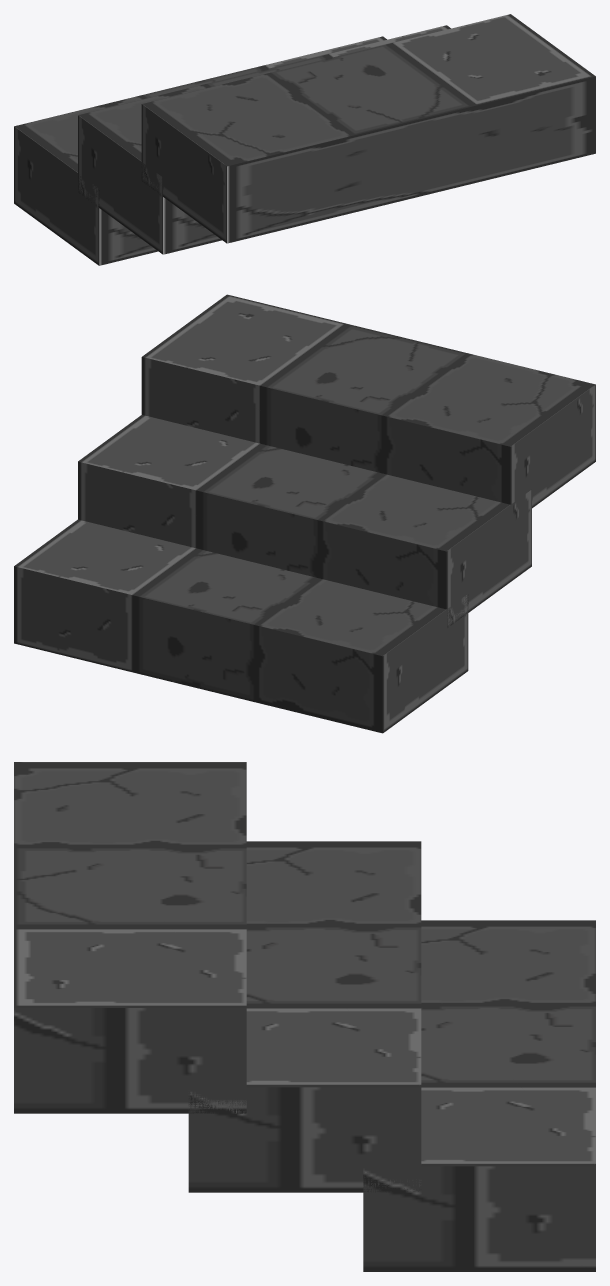
Rendered from stairs.fbx.
3 views of the same model, one above another, from view 1: azimuth 30°, elevation 25°; view 2: azimuth 150°, elevation 25°; view 3: azimuth 270°, elevation 25° (orthographic). The views are drawn at different scales.
Visible parts, largest first — view 1: Cube.001, Cube, Cube.002; view 2: Cube.001, Cube, Cube.002; view 3: Cube.001, Cube, Cube.002.
Boxes of the visible parts, left/top/right/bottom form: Cube.001: left=141, top=14, right=595, bottom=243; Cube: left=14, top=36, right=386, bottom=265; Cube.002: left=78, top=25, right=450, bottom=254; Cube.001: left=141, top=294, right=595, bottom=508; Cube: left=14, top=519, right=468, bottom=733; Cube.002: left=78, top=415, right=531, bottom=627; Cube.001: left=14, top=762, right=246, bottom=1113; Cube: left=363, top=920, right=595, bottom=1271; Cube.002: left=188, top=841, right=421, bottom=1192.
Size of the model in its own units: 1000 by 500 by 1000.
Materials: 3 (3 with a texture image).
